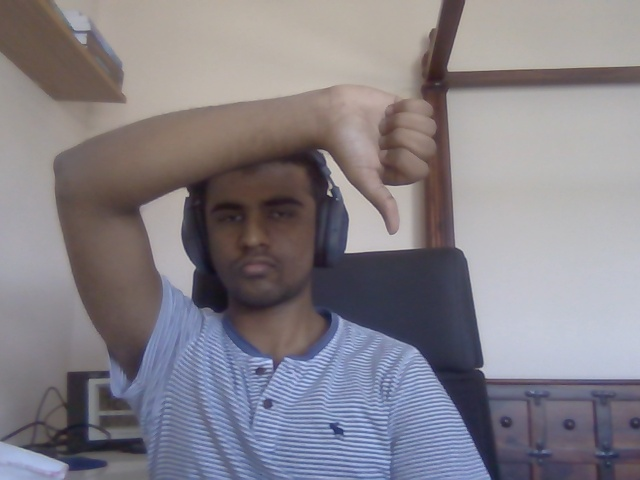No: (326, 83, 437, 234)
